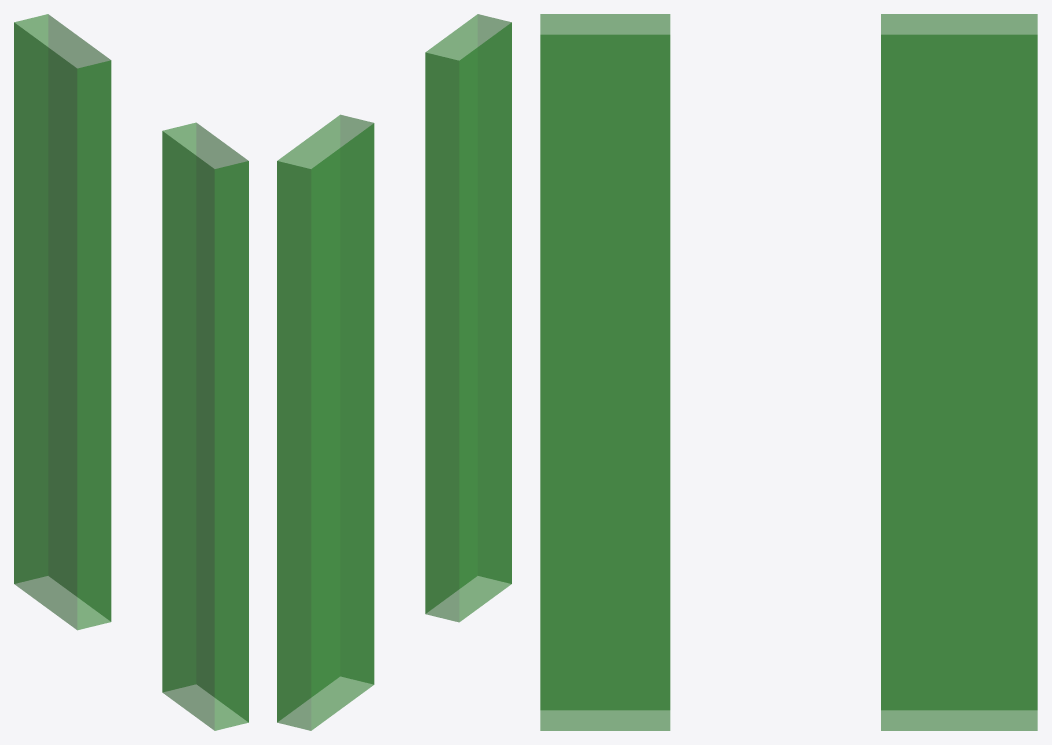
The model's file is wall.obj.
3 views of the same model, side by side, from view 1: azimuth 30°, elevation 25°; view 2: azimuth 150°, elevation 25°; view 3: azimuth 270°, elevation 25° (orthographic). The views are drawn at different scales.
Bounding box in the file's own units: 0.6967 × 10.99 × 7.12.
